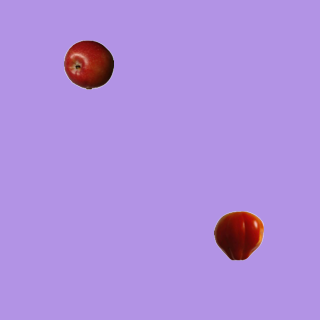Apple Braeburn: (63, 39, 113, 89)
Tomato 1: (213, 210, 263, 260)
